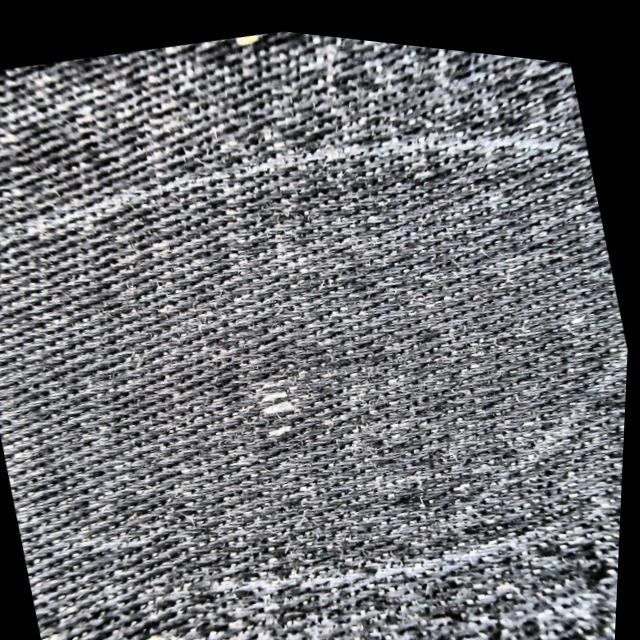Hole: (255, 365, 301, 437)
